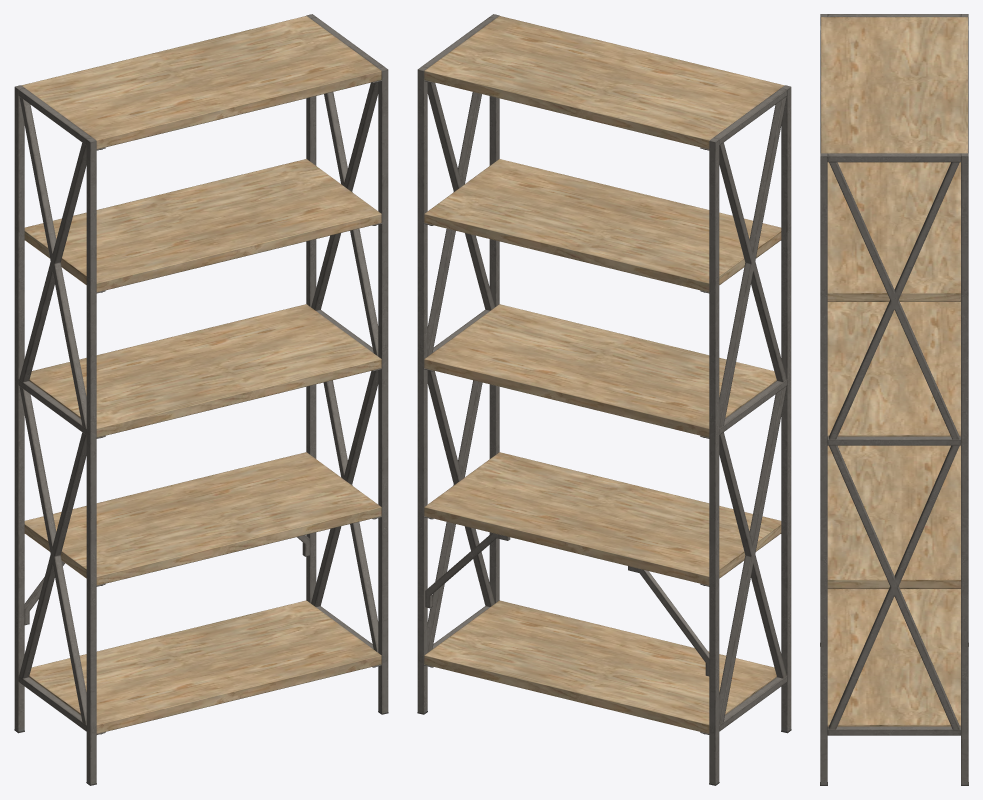
File: abo-B07QC876WJ.glb
3 renders of one model, left to right at view 1: azimuth 30°, elevation 25°; view 2: azimuth 150°, elevation 25°; view 3: azimuth 270°, elevation 25°, orthographic. The views are drawn at different scales.
Bounding box in the file's own units: 0.874 × 1.8 × 0.386.
Materials: 1 (1 with a texture image).
